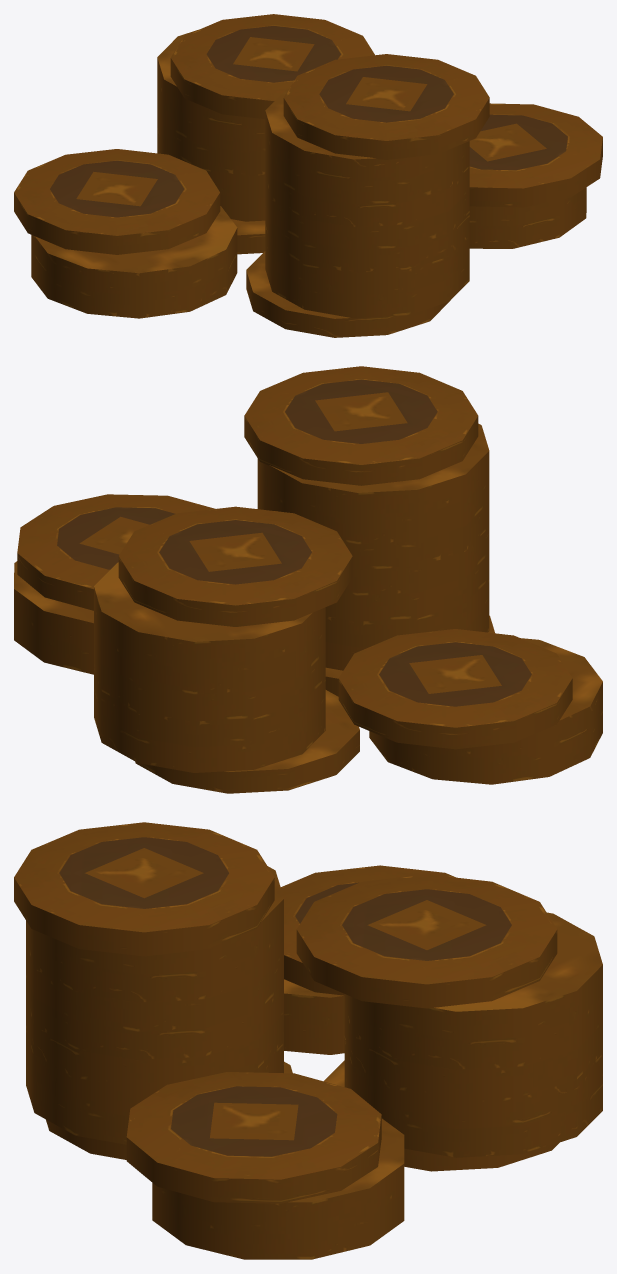
File: Coin_Pile.glb
3 views of the same model, one above another, from view 1: azimuth 30°, elevation 25°; view 2: azimuth 150°, elevation 25°; view 3: azimuth 270°, elevation 25° (orthographic). The views are drawn at different scales.
Parts seen in each view (by area): view 1: Coin_Pile; view 2: Coin_Pile; view 3: Coin_Pile.
Boxes of the visible parts, <box> form: Coin_Pile: <box>14,14,602,337</box>; Coin_Pile: <box>14,366,602,793</box>; Coin_Pile: <box>14,822,602,1259</box>.
Size of the model in its own units: 0.1975 by 0.0735 by 0.1542.
Materials: 1 (1 with a texture image).
